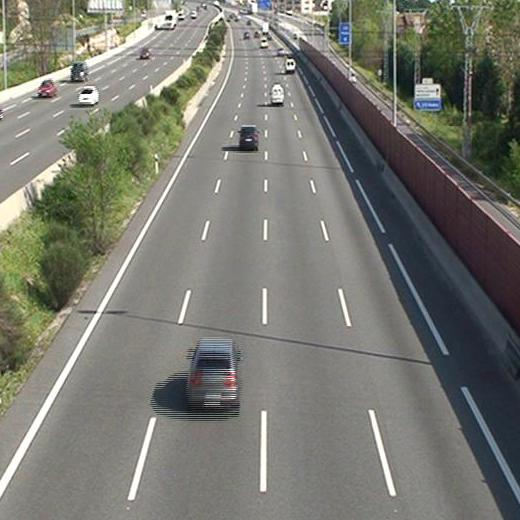car: (187, 340, 239, 413), (239, 125, 258, 148), (277, 48, 284, 56)
van: (271, 86, 283, 105), (285, 58, 295, 74)
